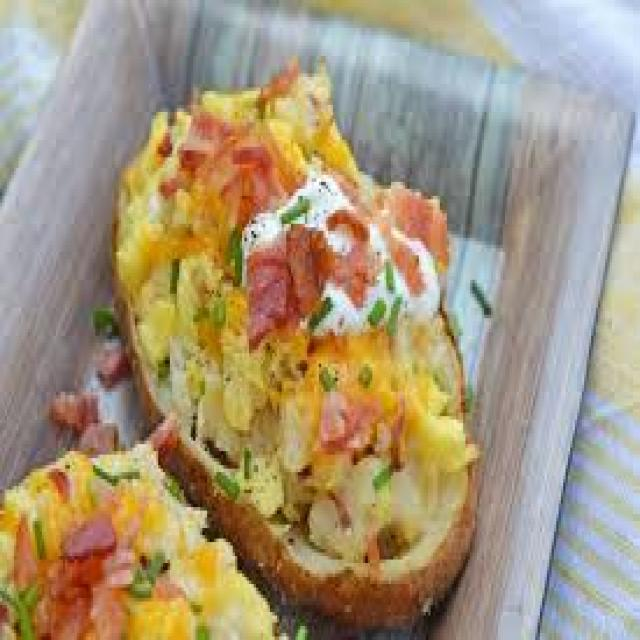Baked Potato: (117, 132, 489, 626)
